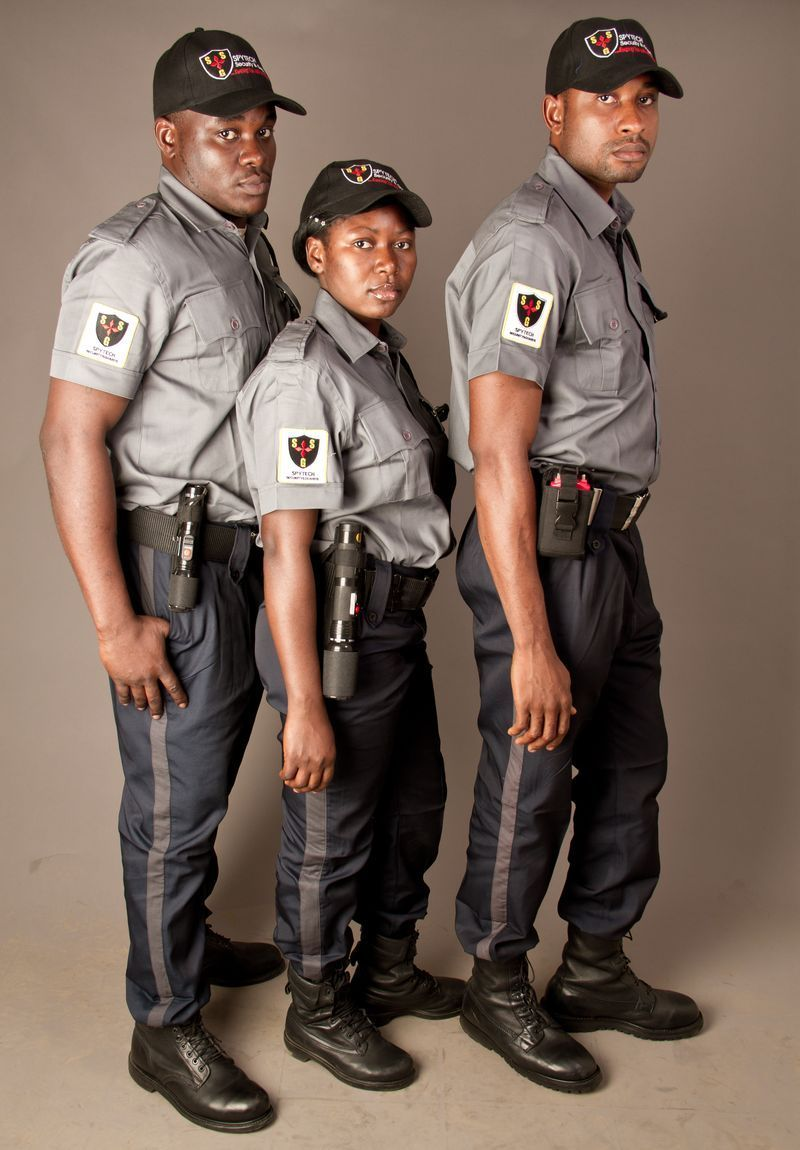uniform: (55, 194, 272, 994), (452, 159, 660, 984), (257, 310, 457, 997)
